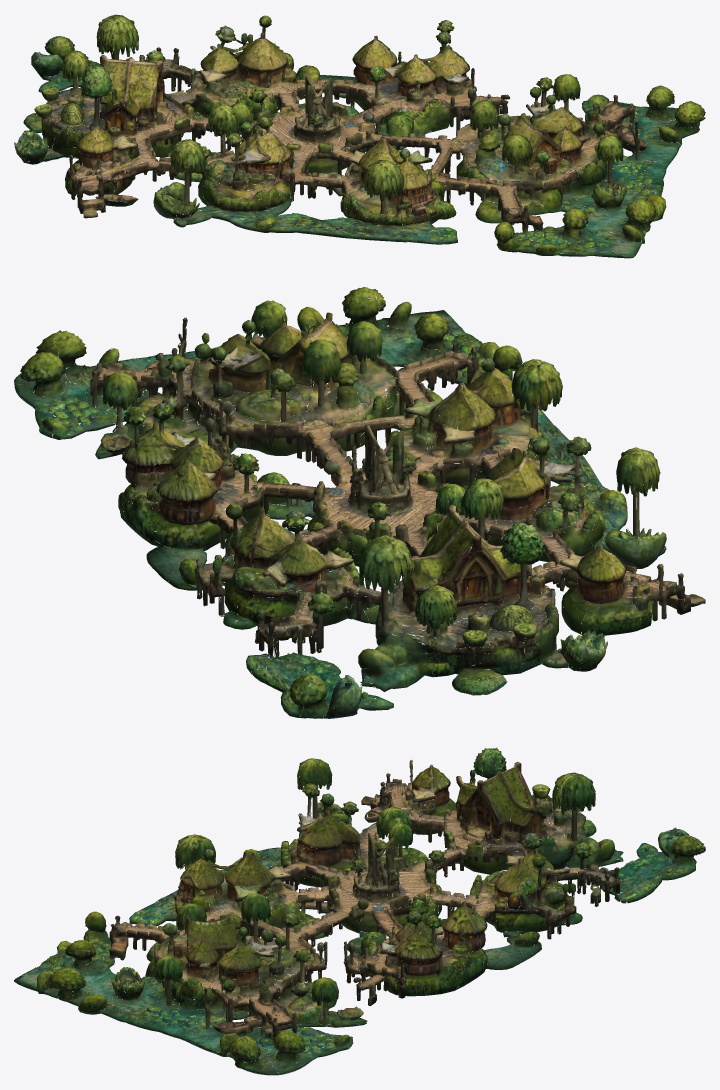
File: frogtown.glb
3 views of the same model, one above another, from view 1: azimuth 30°, elevation 25°; view 2: azimuth 150°, elevation 25°; view 3: azimuth 270°, elevation 25° (orthographic). The views are drawn at different scales.
Visible parts, largest first — view 1: frogtown; view 2: frogtown; view 3: frogtown.
Boxes of the visible parts, x1,y1,x2,y2 form: frogtown: [14, 14, 705, 258]; frogtown: [14, 287, 705, 718]; frogtown: [14, 747, 705, 1075].
Bounding box in the file's own units: 92.23 × 14.71 × 98.14.
Materials: 1 (1 with a texture image).
